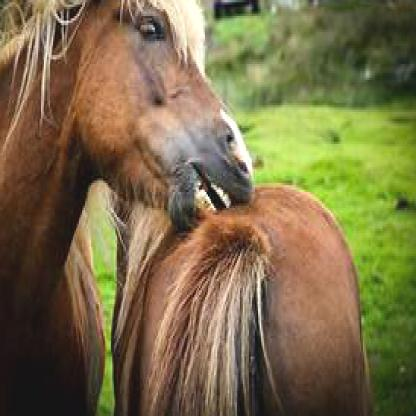horse: (0, 0, 258, 414), (112, 183, 369, 414)
